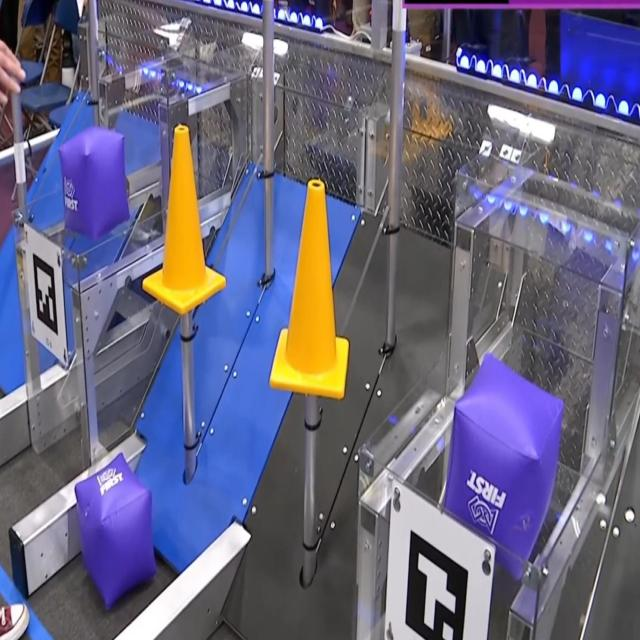frc_cone: (272, 177, 348, 400), (144, 125, 228, 316)
frc_cube: (440, 348, 562, 583), (73, 450, 155, 607), (60, 128, 130, 238)
